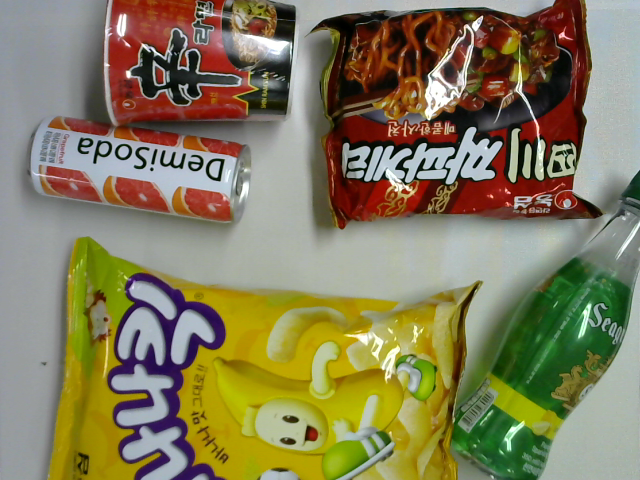Banana_Kick: (43, 236, 484, 480)
Demisoda_Grapefruit_Can_250ml: (26, 113, 254, 233)
Seagram_Lemon_Carbonated_Water: (446, 167, 639, 480)
Sichuan_Chapaghetti: (303, 1, 609, 233)
Sinramen_small: (100, 1, 305, 132)
